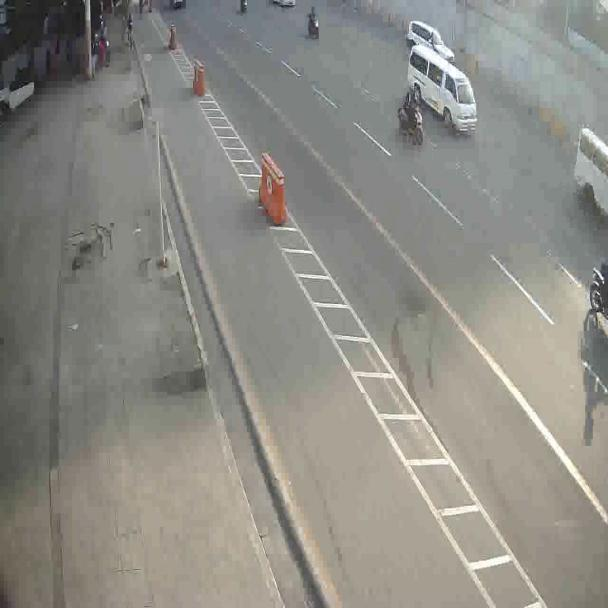motorcyclist: (396, 84, 424, 147)
vehicle: (405, 40, 479, 134), (572, 124, 608, 238)
